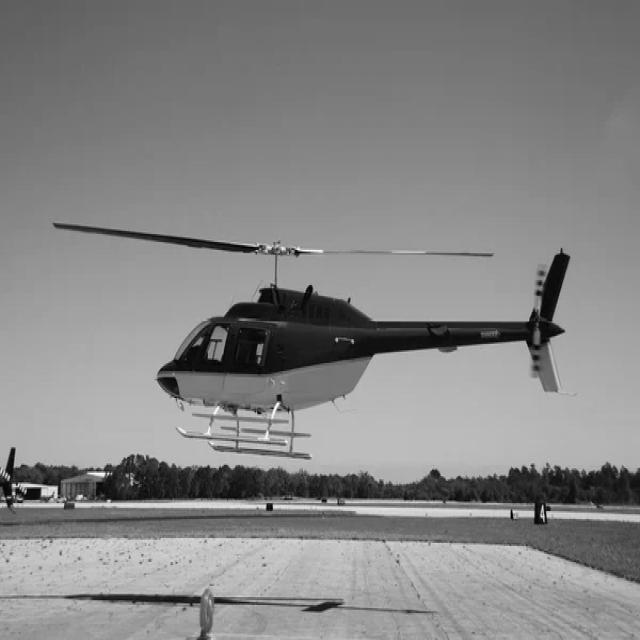Helicopter: (53, 224, 571, 459)
